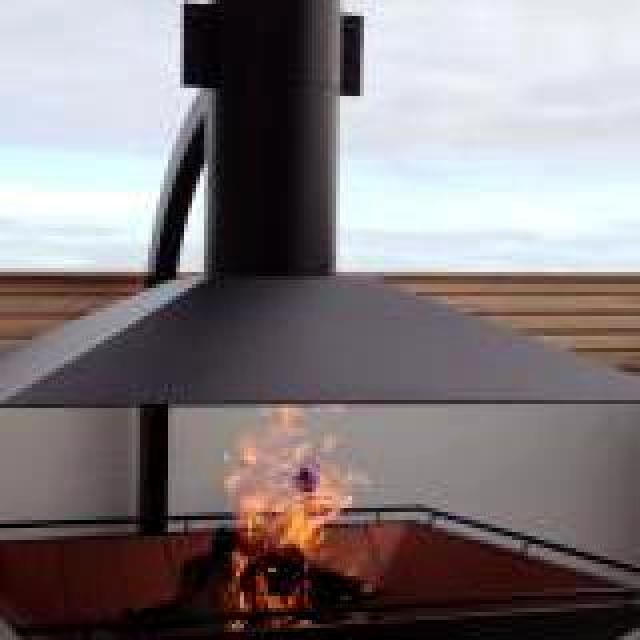fire: (172, 396, 360, 616)
